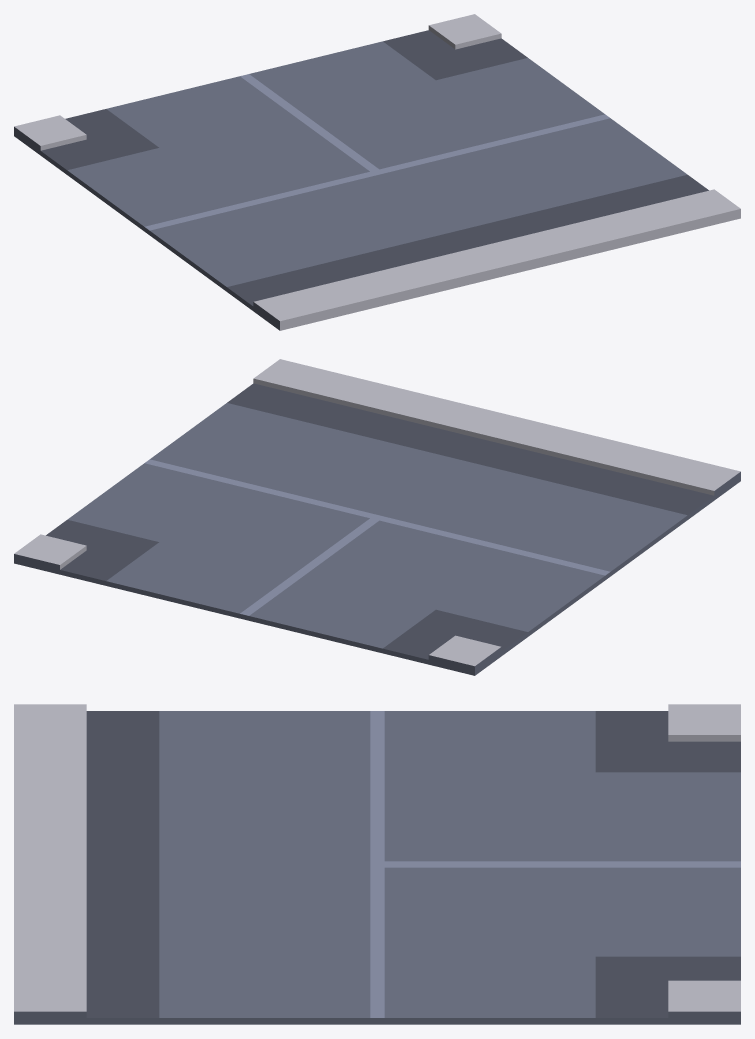
File: Road Intersection Line.glb
The picture shows the model from 3 angles, top to bottom: view 1: azimuth 30°, elevation 25°; view 2: azimuth 150°, elevation 25°; view 3: azimuth 270°, elevation 25°; orthographic projection. The views are drawn at different scales.
Parts seen in each view (by area): view 1: road_intersectionLine; view 2: road_intersectionLine; view 3: road_intersectionLine.
Boxes of the visible parts, x1,y1,x2,y2 form: road_intersectionLine: (14,14,740,330); road_intersectionLine: (14,359,740,675); road_intersectionLine: (14,704,740,1024).
Bounding box in the file's own units: 1 × 0.02 × 1.
